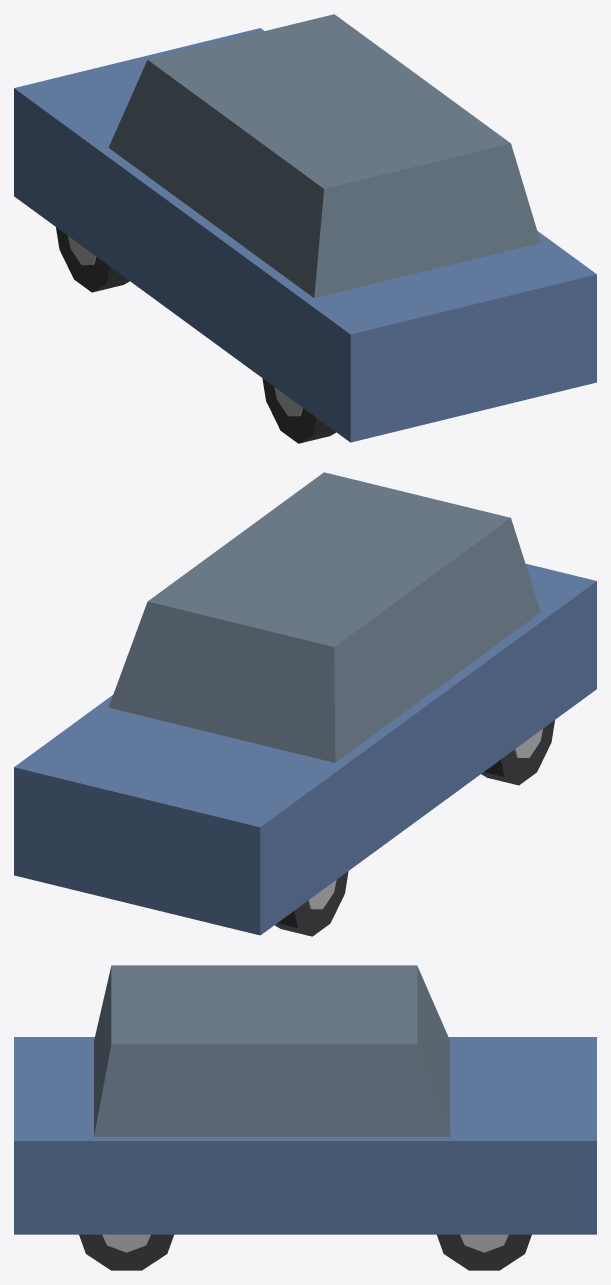
Rendered from car_npc_suv_blue.glb.
3 views of the same model, one above another, from view 1: azimuth 30°, elevation 25°; view 2: azimuth 150°, elevation 25°; view 3: azimuth 270°, elevation 25° (orthographic). The views are drawn at different scales.
Visible parts, largest first — view 1: car_suv_blue; view 2: car_suv_blue; view 3: car_suv_blue.
Part boxes in pixels (x1,y1,x2,y2): car_suv_blue: (14, 14, 596, 443); car_suv_blue: (14, 472, 596, 936); car_suv_blue: (14, 965, 596, 1270).
Size of the model in its own units: 1.86 by 1.79 by 4.4.
